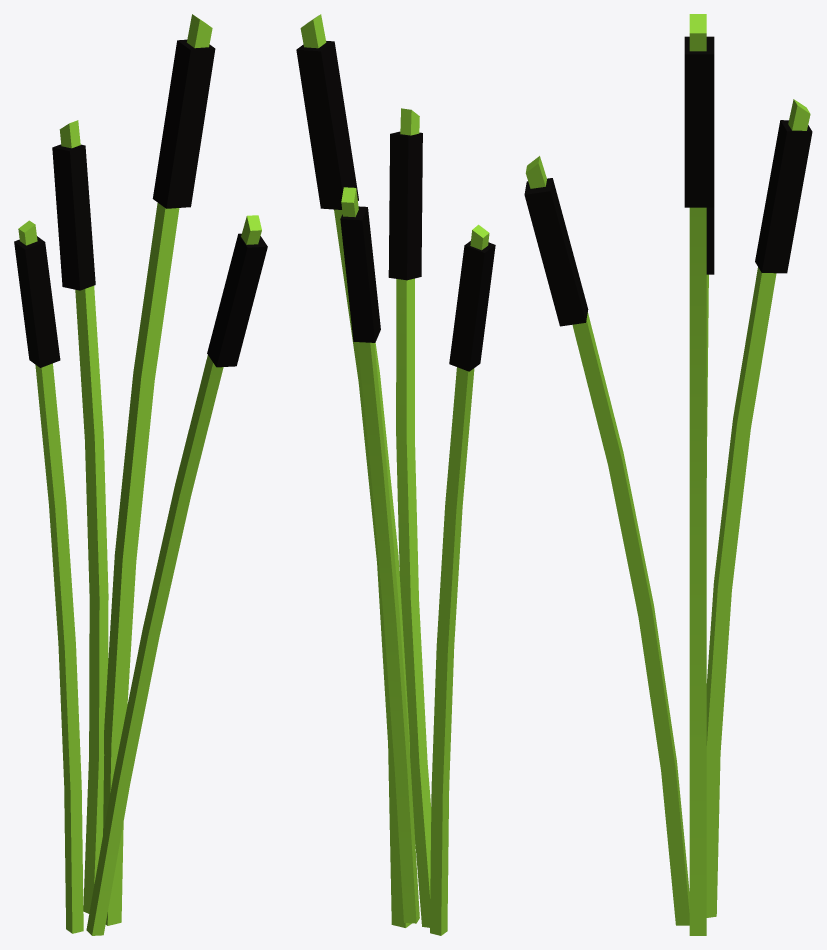
The model's file is Gr-herbes2.FBX.
3 views of the same model, side by side, from view 1: azimuth 30°, elevation 25°; view 2: azimuth 150°, elevation 25°; view 3: azimuth 270°, elevation 25° (orthographic). The views are drawn at different scales.
Visible parts, largest first — view 1: Box005, Box007, Box009, Box003, Box006, Box008, Box010, Box004; view 2: Box009, Box003, Box007, Box006, Box005, Box010, Box004, Box008; view 3: Box005, Box007, Box009, Box006, Box008, Box010, Box004.
Boxes of the visible parts, bbox=[...] form: Box005: bbox=[103, 14, 212, 925]; Box007: bbox=[59, 120, 108, 913]; Box009: bbox=[86, 215, 261, 935]; Box003: bbox=[18, 220, 83, 933]; Box006: bbox=[152, 39, 215, 208]; Box008: bbox=[52, 144, 95, 290]; Box010: bbox=[207, 233, 267, 367]; Box004: bbox=[14, 236, 60, 367]; Box009: bbox=[396, 108, 431, 927]; Box003: bbox=[430, 224, 489, 935]; Box007: bbox=[341, 187, 419, 923]; Box006: bbox=[296, 41, 358, 209]; Box005: bbox=[300, 14, 411, 927]; Box010: bbox=[388, 131, 422, 280]; Box004: bbox=[449, 241, 495, 371]; Box008: bbox=[340, 206, 380, 342]; Box005: bbox=[689, 14, 706, 935]; Box007: bbox=[706, 99, 810, 917]; Box009: bbox=[525, 156, 689, 925]; Box006: bbox=[684, 36, 714, 207]; Box008: bbox=[755, 120, 812, 273]; Box010: bbox=[524, 178, 588, 326]; Box004: bbox=[706, 207, 714, 274].
Size of the model in its own units: 7.55 by 34.03 by 9.19.
